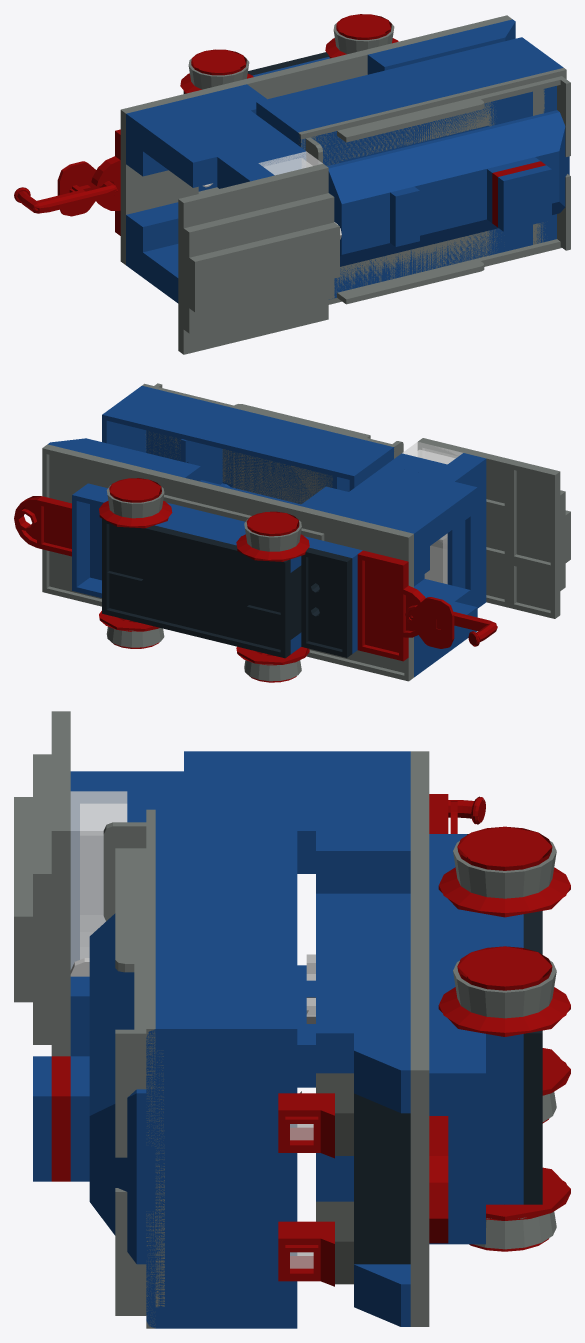
The model's file is car.glb.
3 renders of one model, top to bottom at view 1: azimuth 30°, elevation 25°; view 2: azimuth 150°, elevation 25°; view 3: azimuth 270°, elevation 25°, orthographic. The views are drawn at different scales.
Bounding box in the file's own units: 166 × 56 × 94.4.
